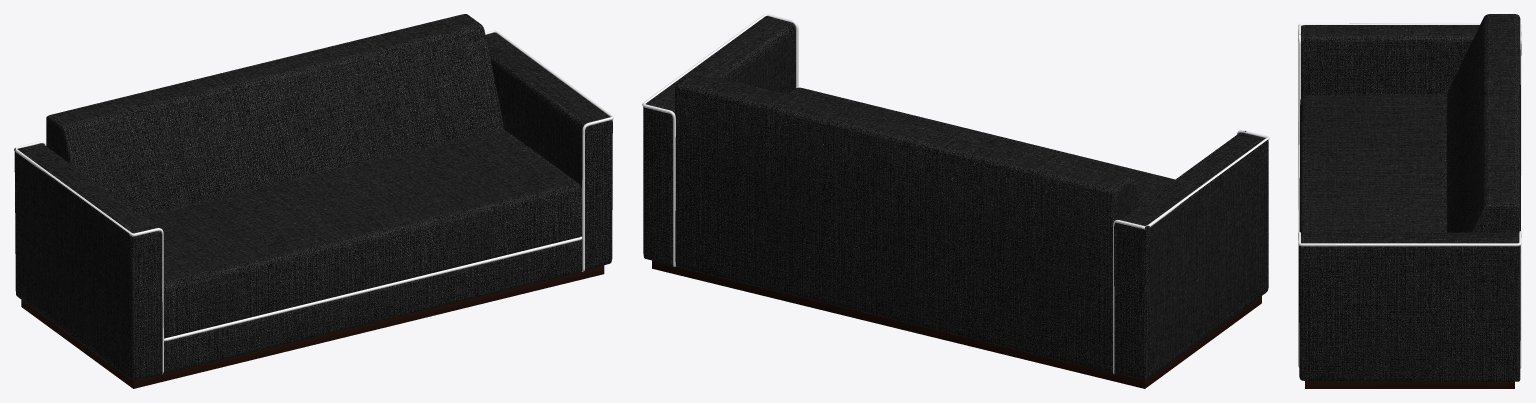
3 renders of one model, left to right at view 1: azimuth 30°, elevation 25°; view 2: azimuth 150°, elevation 25°; view 3: azimuth 270°, elevation 25°, orthographic. The views are drawn at different scales.
Parts seen in each view (by area): view 1: C-skpFA5D; view 2: C-skpFA5D; view 3: C-skpFA5D.
Boxes of the visible parts, box(x1,y1,x2,y2) form: C-skpFA5D: box(14, 14, 613, 388); C-skpFA5D: box(642, 14, 1269, 388); C-skpFA5D: box(1298, 14, 1521, 388).
Size of the model in its own units: 1.9 by 0.6925 by 0.8131.
Materials: 3 (2 with a texture image).
